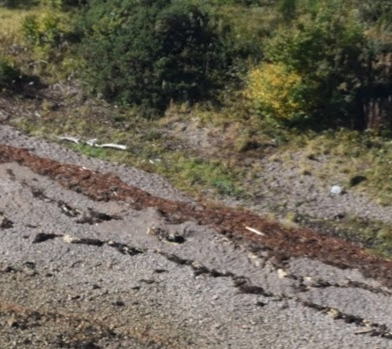white_in_green: (317, 171, 357, 206)
